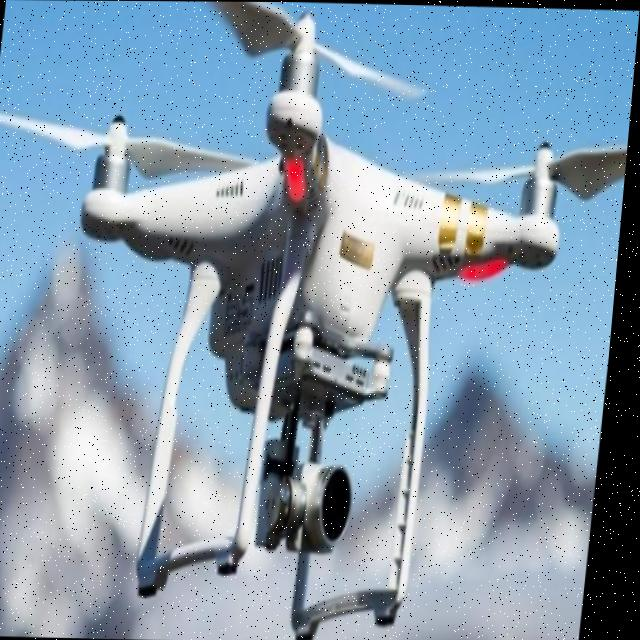drones: (0, 0, 640, 625)
